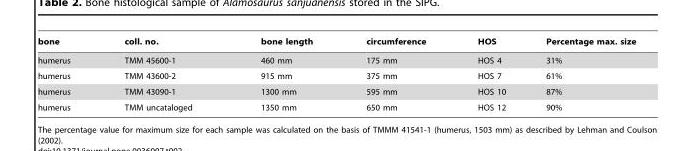table: (37, 36, 635, 111)
table column: (96, 36, 225, 111), (225, 36, 338, 111), (338, 36, 451, 111), (525, 36, 635, 111), (451, 36, 525, 111), (37, 36, 96, 111)
table column header: (37, 36, 635, 50)
table row: (37, 50, 635, 67), (37, 67, 635, 83), (37, 83, 635, 99), (37, 36, 635, 50), (37, 99, 635, 111)
